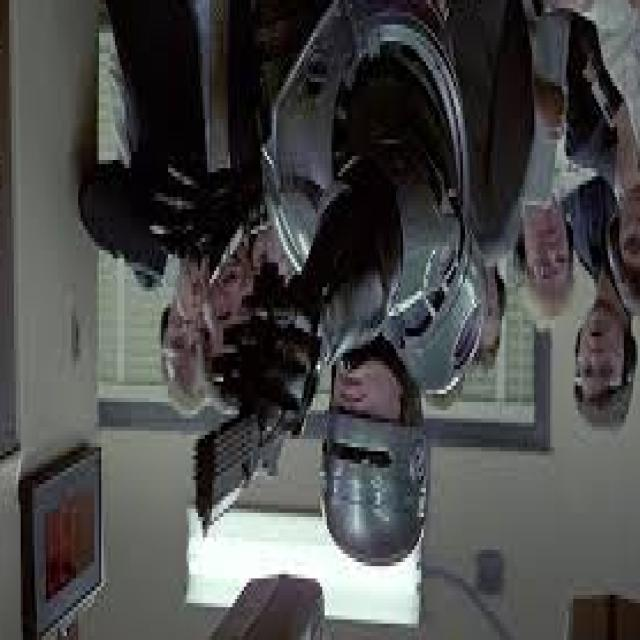gun: (162, 257, 321, 575)
